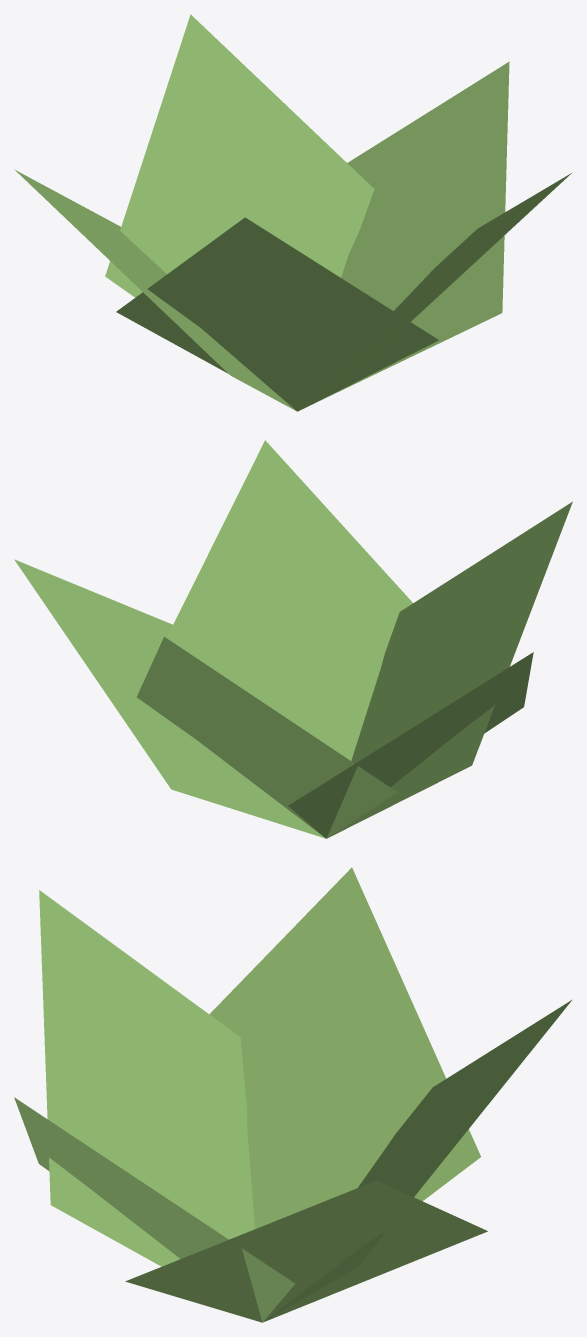
Rendered from cabbage_s1.glb.
The picture shows the model from 3 angles, top to bottom: view 1: azimuth 30°, elevation 25°; view 2: azimuth 150°, elevation 25°; view 3: azimuth 270°, elevation 25°; orthographic projection. The views are drawn at different scales.
Visible parts, largest first — view 1: cabbage; view 2: cabbage; view 3: cabbage.
Boxes of the visible parts, bbox=[...] form: cabbage: bbox=[14, 14, 571, 411]; cabbage: bbox=[14, 440, 572, 838]; cabbage: bbox=[14, 867, 572, 1322].
Bounding box in the file's own units: 0.2124 × 0.1208 × 0.1754.
